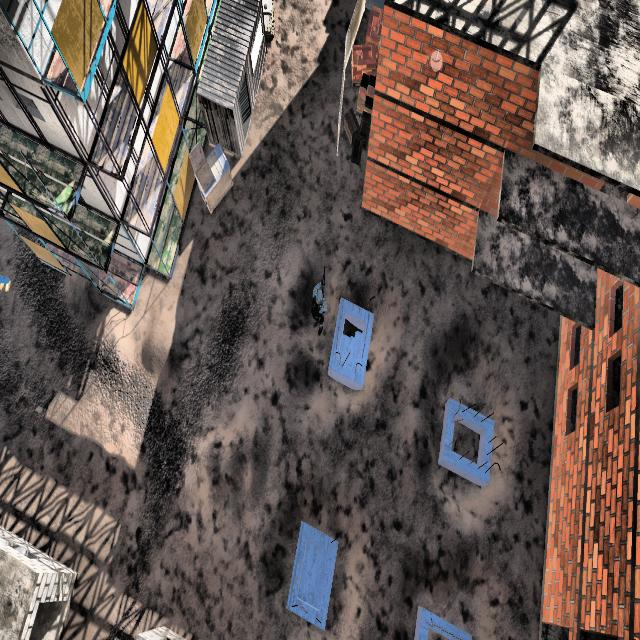bad: (304, 260, 330, 340)
good: (0, 261, 9, 311)
